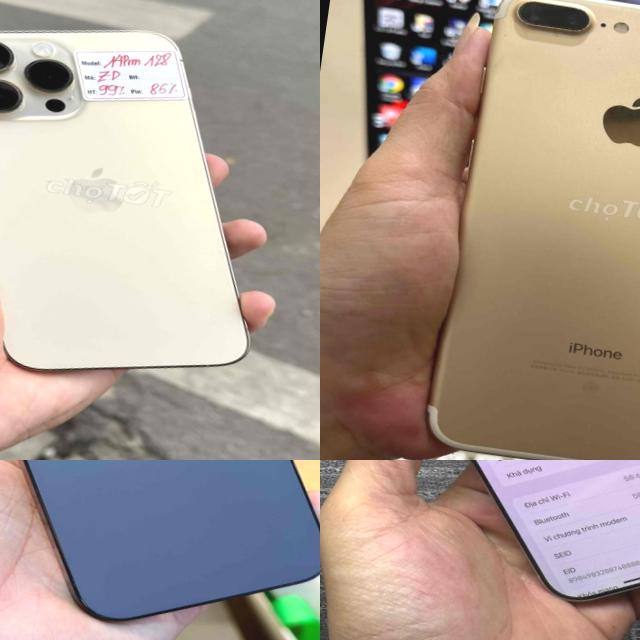gen_14: (0, 0, 304, 396), (0, 460, 320, 640)
gen_16: (471, 460, 640, 600)
gen_7_8: (428, 0, 640, 460)
scratch: (500, 10, 590, 52)
